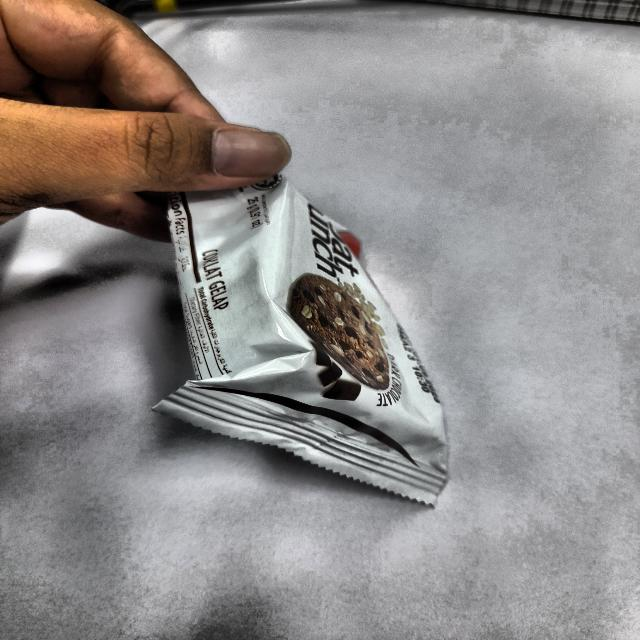Plastic: (148, 160, 474, 499)
